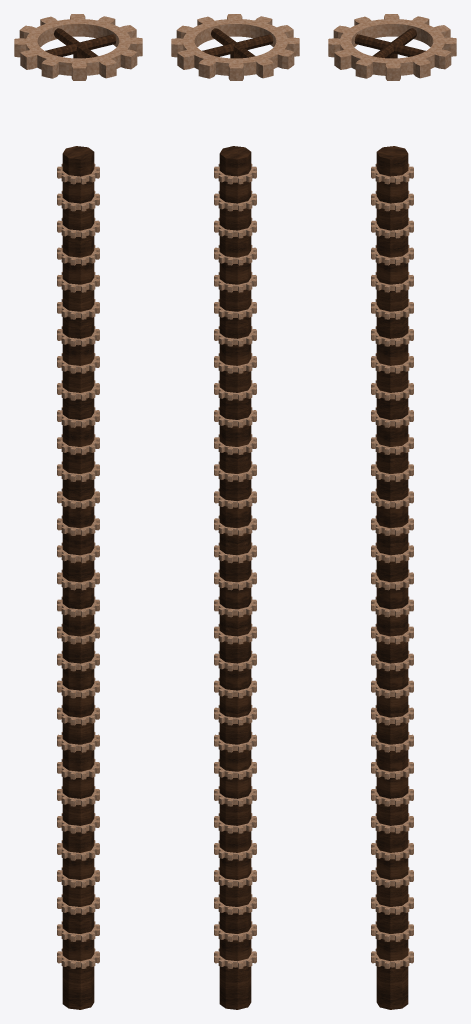
The model's file is xenotown-clock-central.glb.
3 renders of one model, left to right at view 1: azimuth 30°, elevation 25°; view 2: azimuth 210°, elevation 25°; view 3: azimuth 330°, elevation 25°, orthographic.
Visible parts, largest first — view 1: CentralPillar; view 2: CentralPillar; view 3: CentralPillar.
Boxes of the visible parts, x1=… form: CentralPillar: x1=14, y1=14, x2=142, y2=1009; CentralPillar: x1=171, y1=14, x2=299, y2=1009; CentralPillar: x1=328, y1=14, x2=456, y2=1009.
Size of the model in its own units: 4.66 by 38.46 by 4.66.
2 materials, 2 textured.
